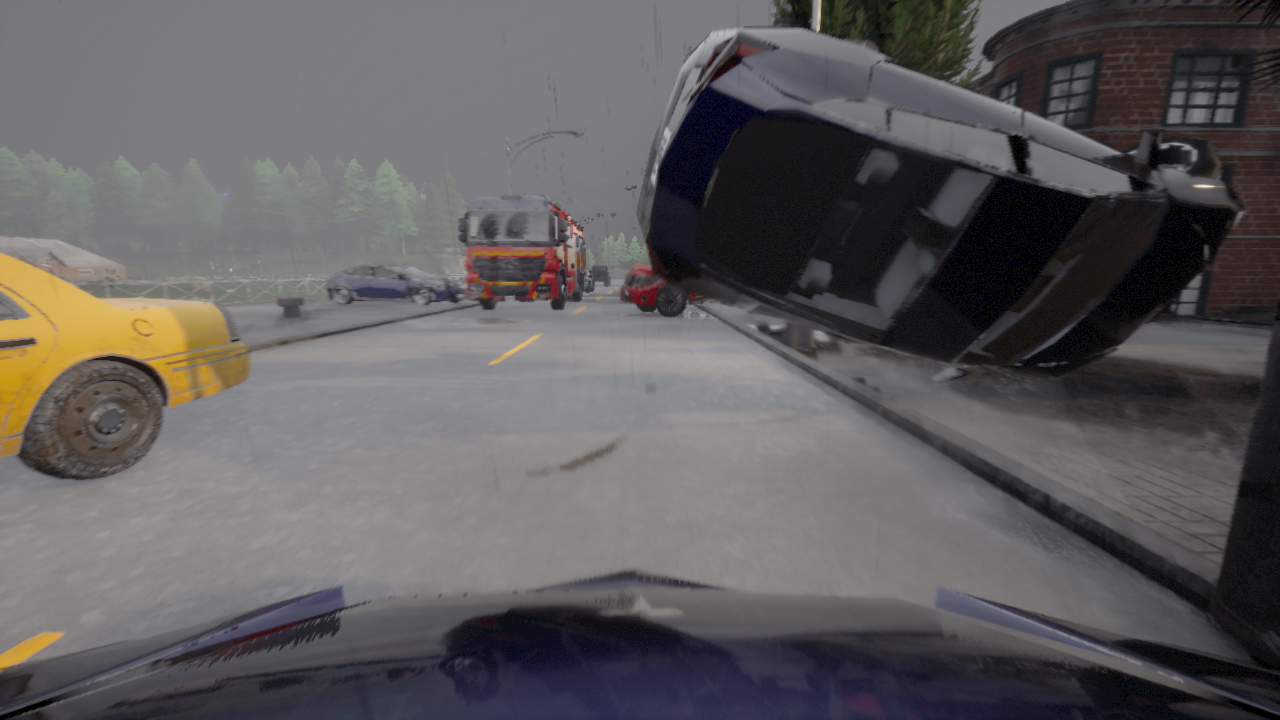cyclist: (636, 19, 1246, 384), (0, 569, 1279, 719), (458, 194, 584, 308), (324, 264, 465, 305), (621, 268, 714, 315), (590, 266, 609, 285), (585, 269, 592, 292), (632, 264, 647, 270)
